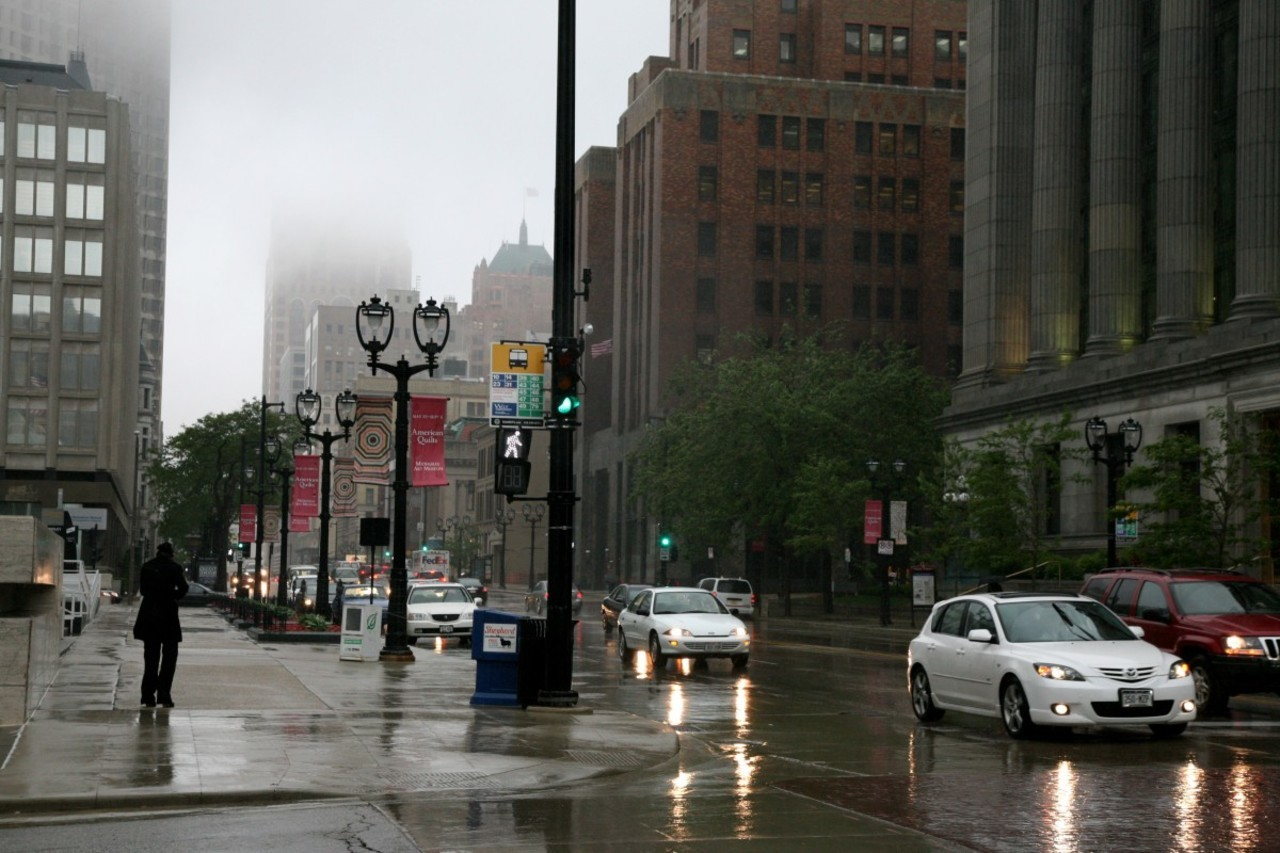car: (903, 591, 1203, 743), (1076, 568, 1279, 717), (622, 587, 752, 668), (403, 582, 475, 640), (693, 575, 758, 621), (600, 586, 647, 630), (523, 581, 583, 615)
person: (133, 544, 188, 707)
